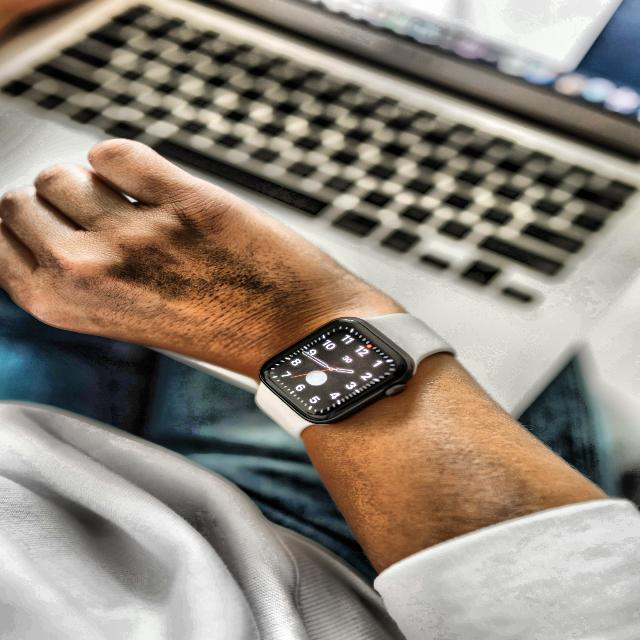Smartwatch: (219, 297, 478, 457)
